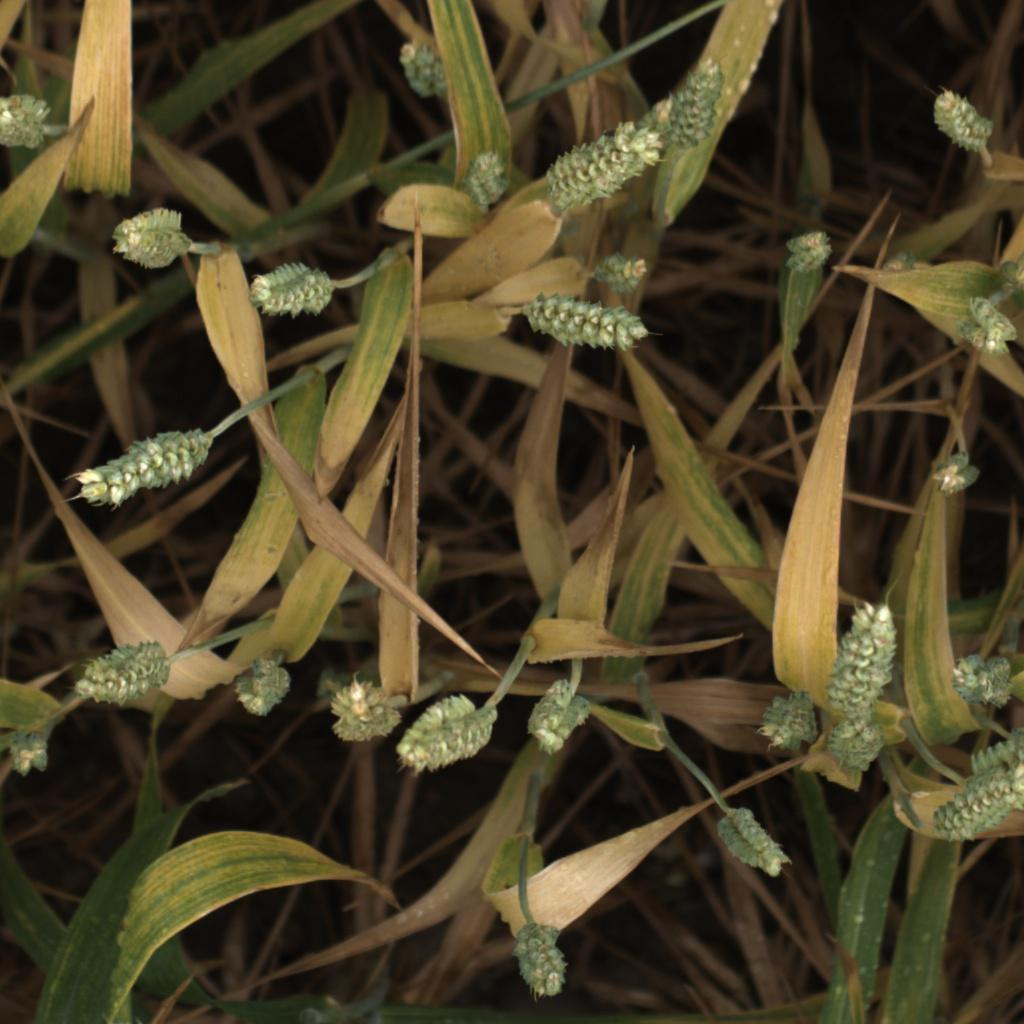0-0: (77, 416, 213, 513), (544, 109, 658, 216), (633, 57, 728, 160), (825, 594, 904, 709), (396, 689, 500, 770), (517, 294, 651, 353), (77, 635, 172, 708), (936, 766, 1024, 843), (320, 675, 405, 750), (104, 203, 190, 277), (244, 256, 336, 325), (507, 918, 579, 1006), (522, 676, 595, 760), (715, 806, 792, 884), (924, 80, 999, 157), (953, 294, 1024, 362), (230, 657, 294, 729), (758, 687, 825, 754), (820, 711, 887, 778), (392, 33, 450, 109), (461, 146, 519, 217), (946, 651, 1015, 710), (962, 717, 1024, 781), (0, 89, 55, 157), (925, 445, 986, 501), (587, 248, 652, 295), (781, 224, 834, 281), (4, 725, 56, 783)
